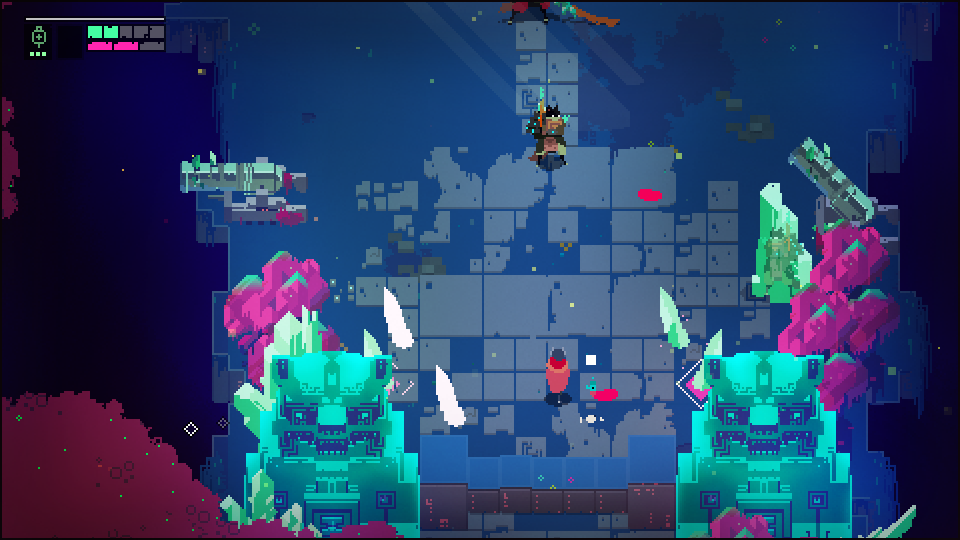hanged_crys: (432, 365, 468, 424), (658, 289, 691, 353), (378, 282, 412, 343)
player: (545, 348, 572, 401)
